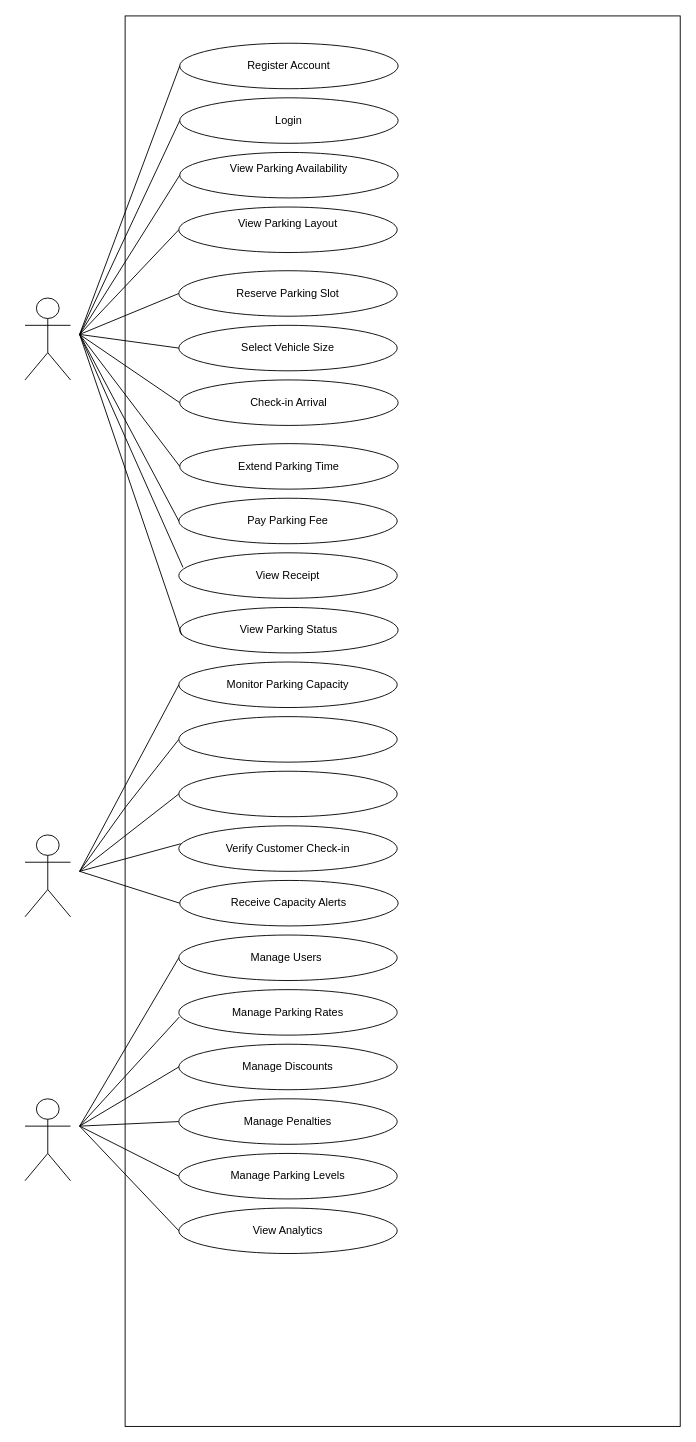
The diagram is 696 pixels wide and 1442 high, and some of its shapes have lost their labels. The shapes that lost their labels are listed below. From the top down, each one's centre as x and y in pixels, then its label:
[47,338]: customer
[287,739]: View Reservations
[287,793]: Manage Parking Slots
[47,875]: Parking Staff
[47,1139]: Administrator
